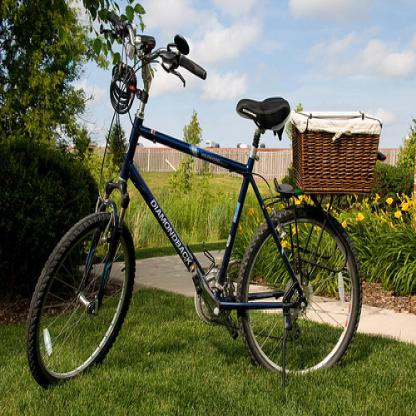bicycle: (27, 12, 381, 388)
